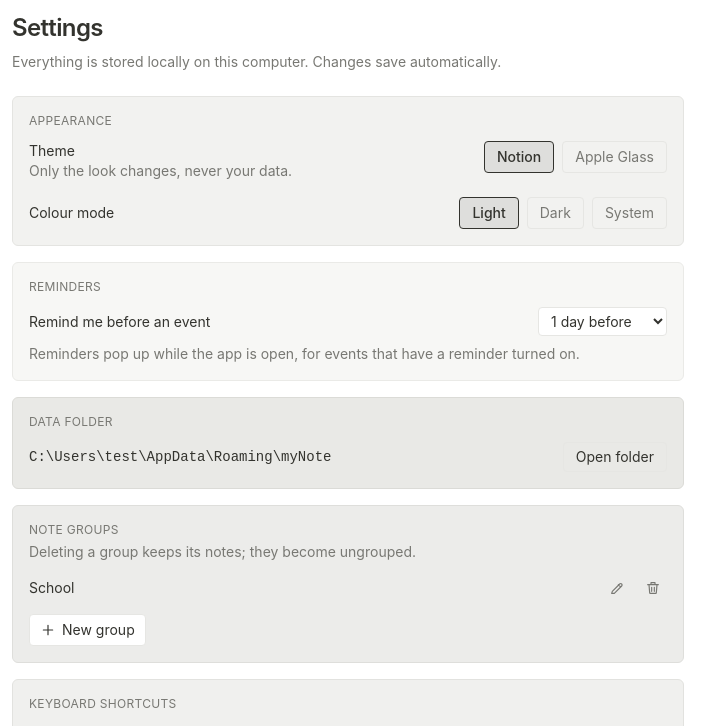
Test case: SettingsPage › manages note groups from Settings
Check: the text "School" is shown, box [29,579,74,596]
Step 1. Click the button "New group" → (87, 630), box [29,614,146,646]
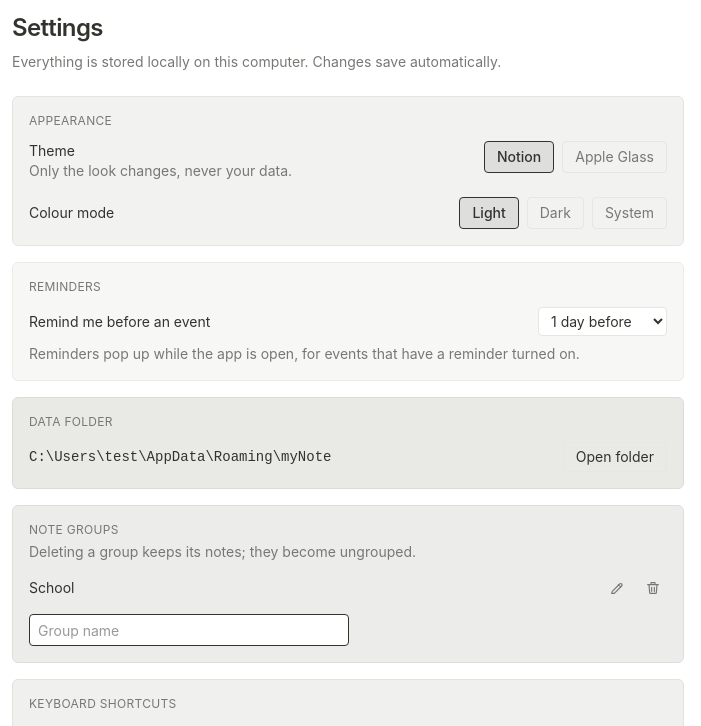
Step 2. Type "Work" into the field named "New group name" → (189, 630), box [29,614,349,646]
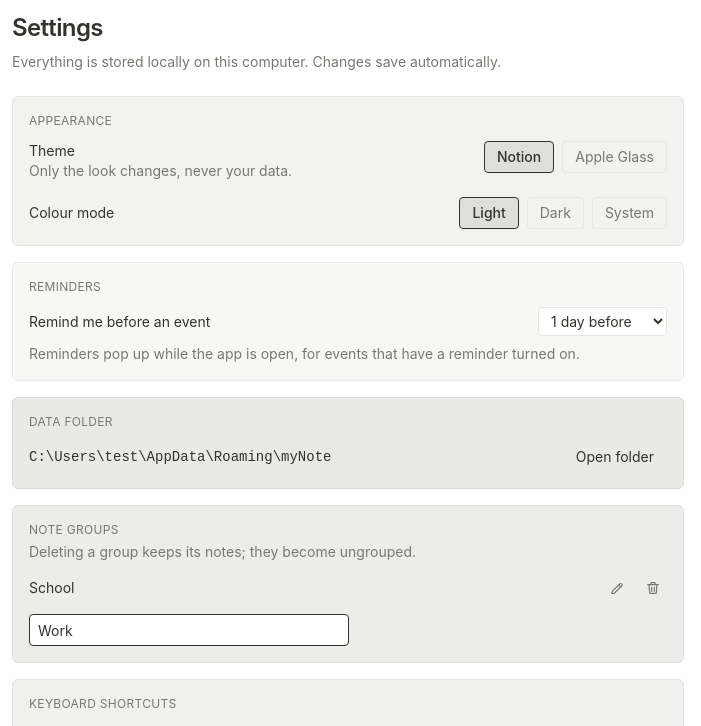
Step 3. Press Enter in the field named "New group name", box [29,614,349,646]
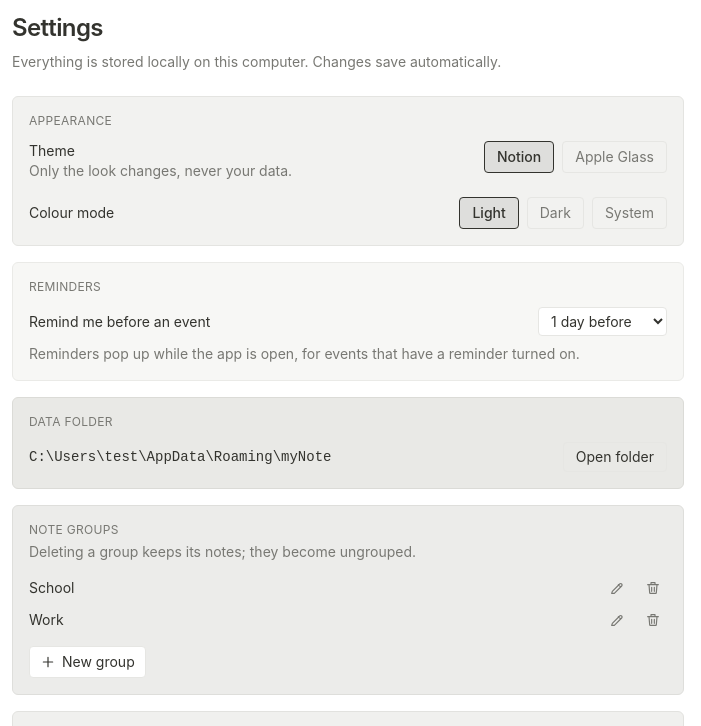
Check: the text "Work" is shown, box [29,611,64,628]
